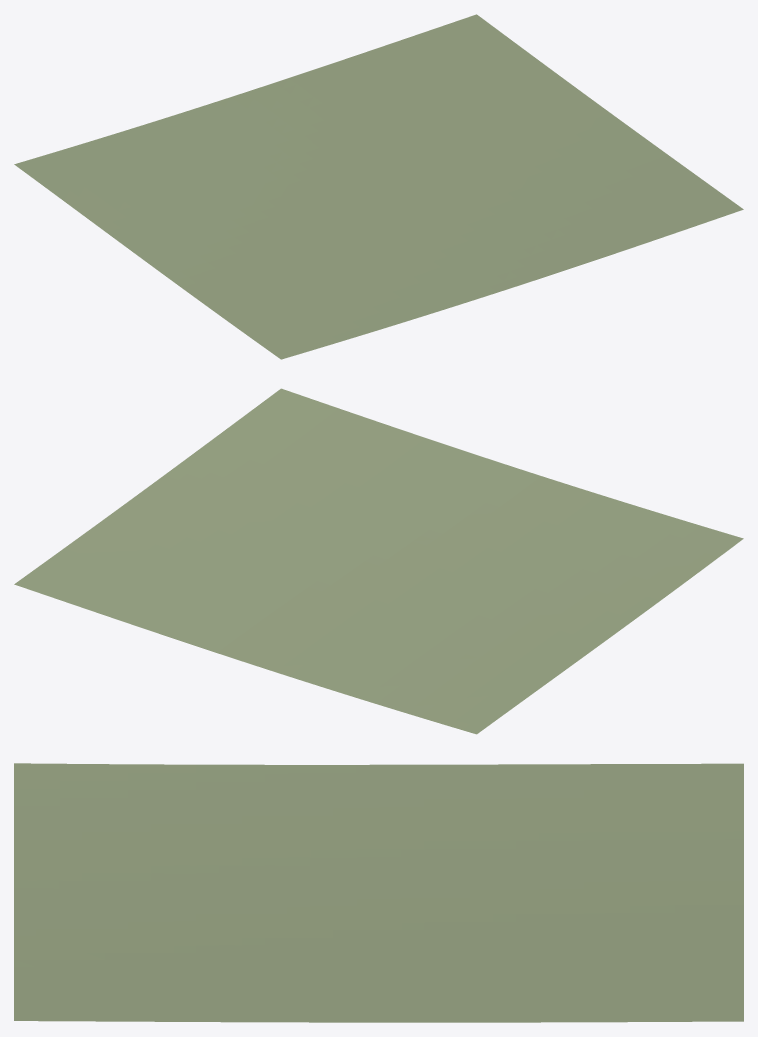
The model's file is expanse-20-14.glb.
3 renders of one model, top to bottom at view 1: azimuth 30°, elevation 25°; view 2: azimuth 150°, elevation 25°; view 3: azimuth 270°, elevation 25°, orthographic. The views are drawn at different scales.
Parts seen in each view (by area): view 1: expanse-20-14; view 2: expanse-20-14; view 3: expanse-20-14.
Part boxes in pixels (x1,y1,x2,y2): expanse-20-14: [14, 14, 743, 359]; expanse-20-14: [14, 388, 743, 734]; expanse-20-14: [14, 763, 743, 1022].
Bounding box in the file's own units: 256 × 20.26 × 256.
